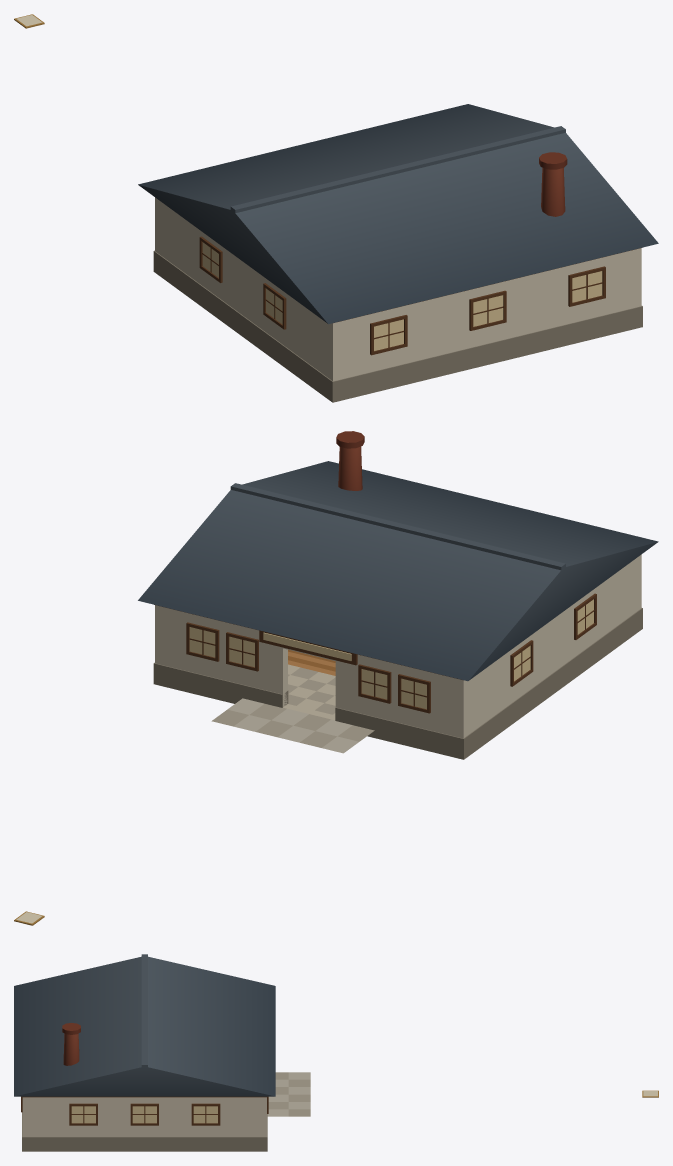
Rendered from bathhouse.glb.
3 renders of one model, top to bottom at view 1: azimuth 30°, elevation 25°; view 2: azimuth 150°, elevation 25°; view 3: azimuth 270°, elevation 25°, orthographic. The views are drawn at different scales.
Visible parts, largest first — view 1: roof, shell, glow; view 2: roof, shell, floor, glow; view 3: roof, shell, floor, glow.
Part boxes in pixels (left/top/right/bottom): roof: left=138, top=104, right=658, bottom=324; shell: left=153, top=197, right=642, bottom=402; glow: left=202, top=242, right=602, bottom=350; roof: left=138, top=431, right=658, bottom=681; shell: left=153, top=554, right=642, bottom=759; floor: left=211, top=649, right=374, bottom=753; glow: left=189, top=599, right=593, bottom=709; roof: left=14, top=954, right=275, bottom=1096; shell: left=21, top=1096, right=268, bottom=1151; floor: left=267, top=1072, right=310, bottom=1116; glow: left=71, top=1106, right=217, bottom=1123.
Size of the model in its own units: 15 by 6.75 by 36.97.
